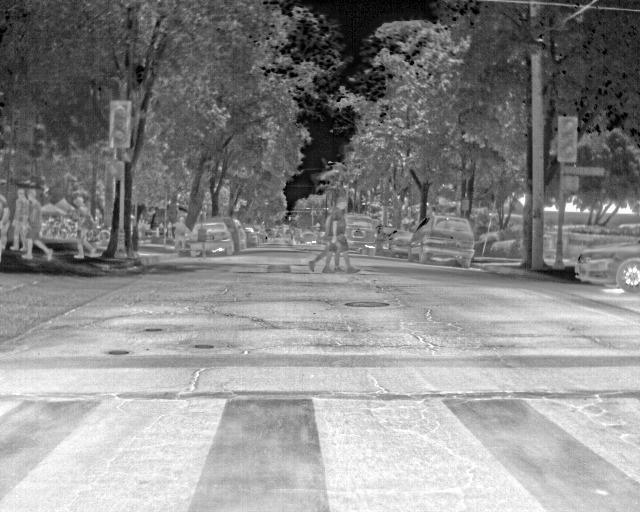bicycle: (411, 212, 477, 270), (571, 237, 639, 293), (344, 212, 379, 257), (191, 220, 234, 256), (390, 229, 414, 258), (229, 217, 247, 254), (244, 226, 259, 249)
empty: (319, 200, 363, 277), (21, 188, 55, 263), (70, 195, 101, 260), (9, 185, 29, 253), (173, 214, 192, 257)
